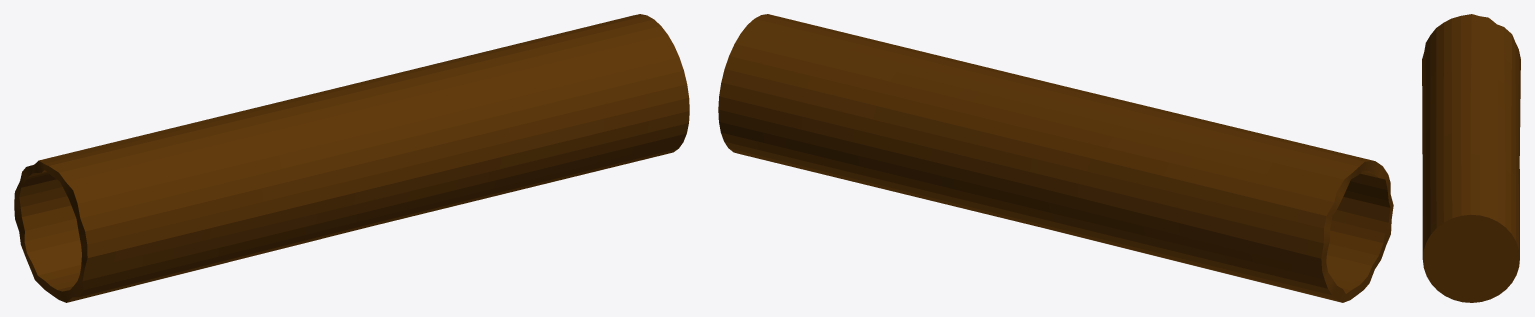
The model's file is tasatan.fbx.
The picture shows the model from 3 angles, left to right: view 1: azimuth 30°, elevation 25°; view 2: azimuth 150°, elevation 25°; view 3: azimuth 270°, elevation 25°; orthographic projection. The views are drawn at different scales.
Visible parts, largest first — view 1: Cylinder.001; view 2: Cylinder.001; view 3: Cylinder.001.
Part boxes in pixels (x1,y1,x2,y2): Cylinder.001: (14, 14, 689, 302); Cylinder.001: (718, 14, 1393, 302); Cylinder.001: (1422, 14, 1520, 302).
Size of the model in its own units: 976 by 201 by 203.
